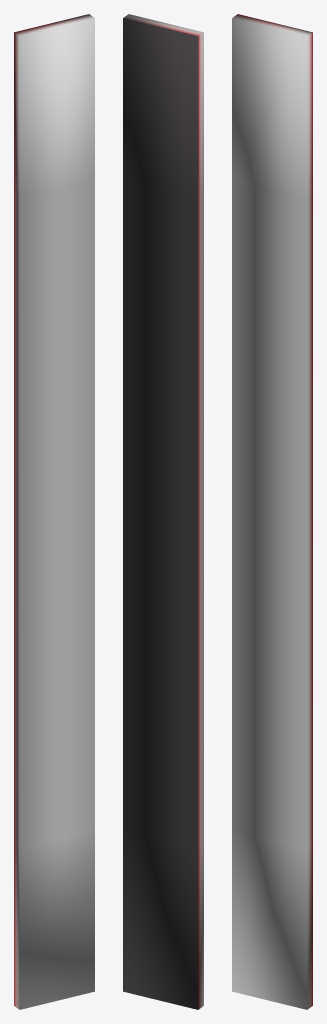
Rendered from Rails_20m_Collider.fbx.
3 renders of one model, left to right at view 1: azimuth 30°, elevation 25°; view 2: azimuth 150°, elevation 25°; view 3: azimuth 330°, elevation 25°, orthographic.
Parts seen in each view (by area): view 1: LP_Rails_20m_Collider; view 2: LP_Rails_20m_Collider; view 3: LP_Rails_20m_Collider.
Boxes of the visible parts, left/top/right/bottom form: LP_Rails_20m_Collider: left=14, top=14, right=94, bottom=1009; LP_Rails_20m_Collider: left=123, top=14, right=203, bottom=1009; LP_Rails_20m_Collider: left=232, top=14, right=312, bottom=1009.
Bounding box in the file's own units: 1.62 × 20 × 0.21.
